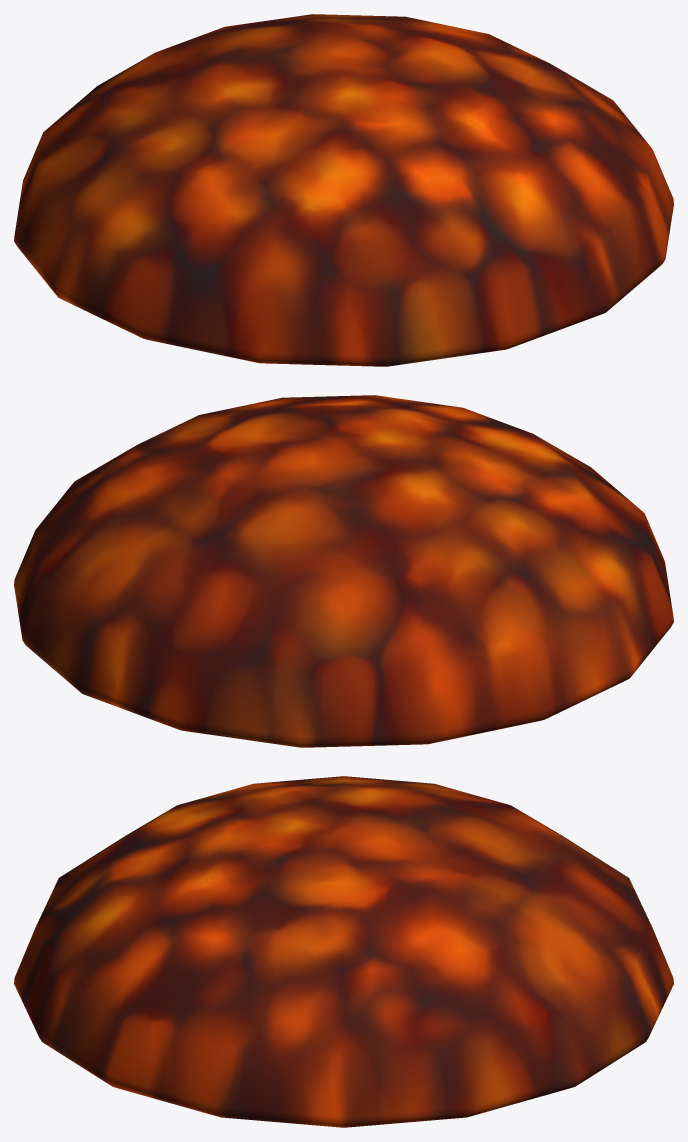
The model's file is PileOfCoals.fbx.
3 views of the same model, one above another, from view 1: azimuth 30°, elevation 25°; view 2: azimuth 150°, elevation 25°; view 3: azimuth 270°, elevation 25° (orthographic).
Parts seen in each view (by area): view 1: PileOfCoals; view 2: PileOfCoals; view 3: PileOfCoals.
Boxes of the visible parts, x1,y1,x2,y2 form: PileOfCoals: (14, 14, 673, 366); PileOfCoals: (14, 395, 673, 747); PileOfCoals: (14, 776, 673, 1127).
Size of what is drawn, in the model's own units: 0.9878 by 0.29 by 0.9878.
